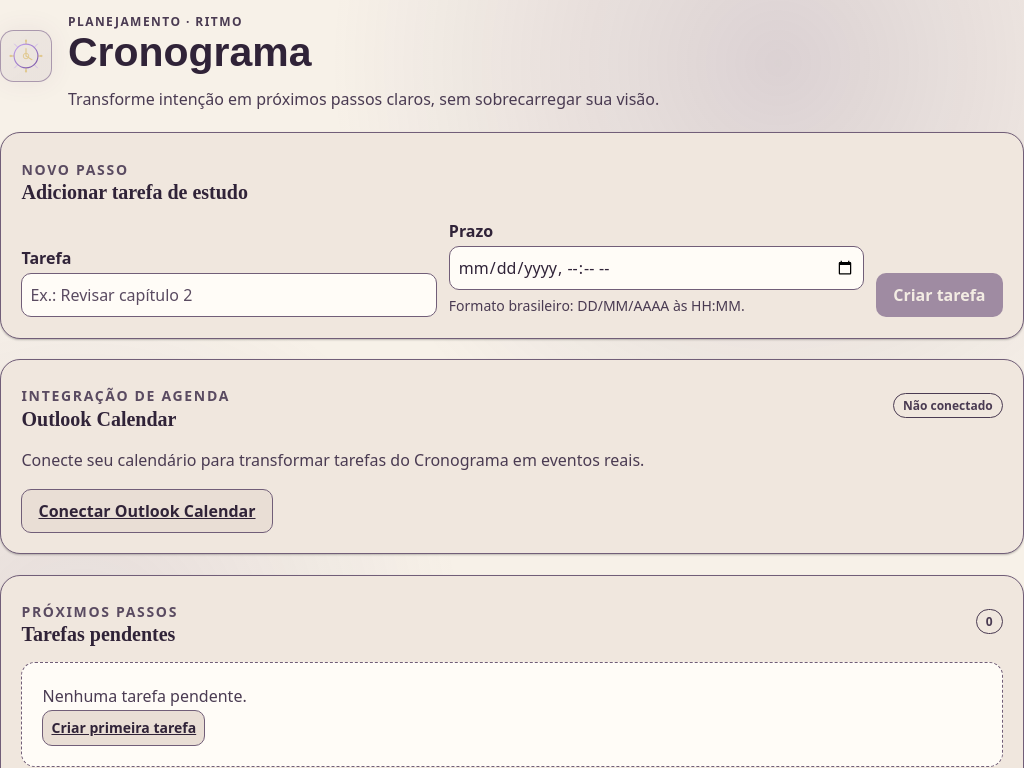
Scenario: Cronograma server snapshot acknowledgment and reopening › does not duplicate an optimistic task once the server acknowledges creation
Type "Criar grimório" into the field labelled "Tarefa" at [229, 295], box [22, 273, 437, 317]
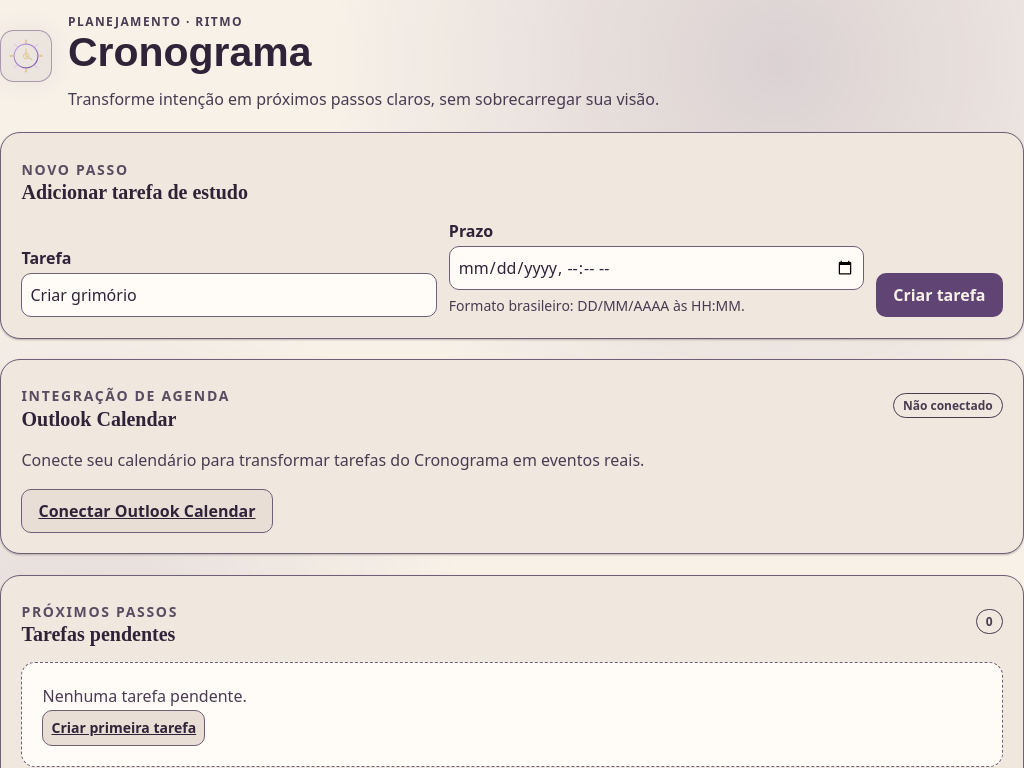
Submit the form named "Adicionar tarefa de estudo", box [22, 220, 1003, 317]
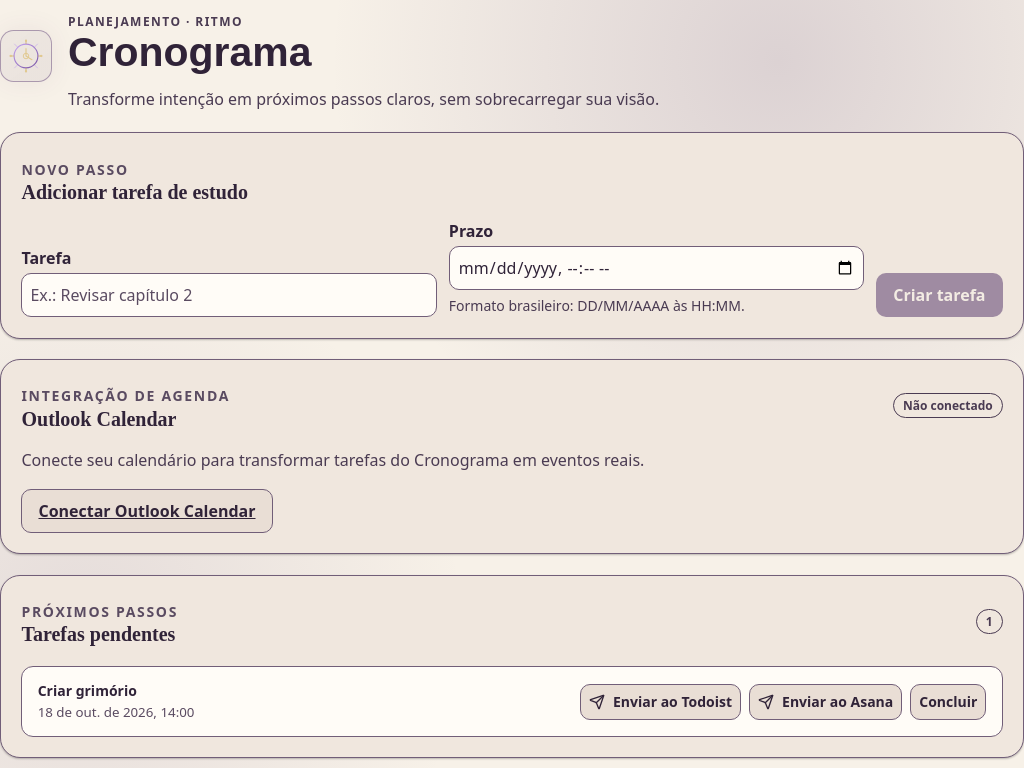
expect the text "Criar grimório" is shown: met, box [38, 681, 137, 700]
